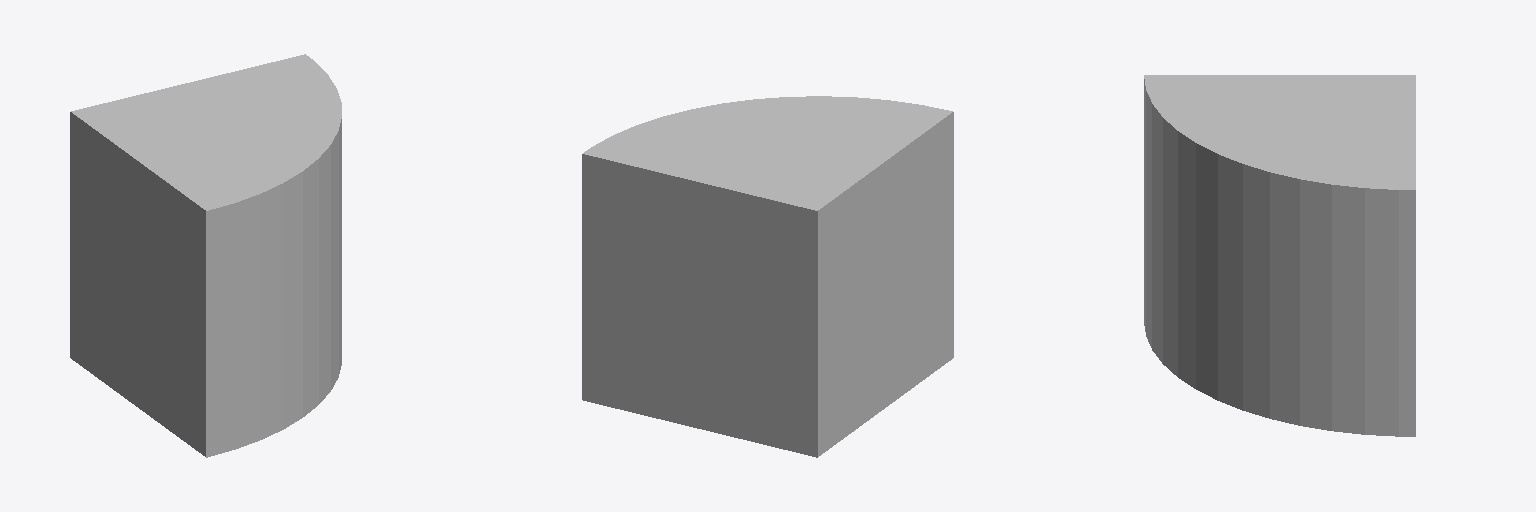
The model's file is ConvexCurve.obj.
3 views of the same model, side by side, from view 1: azimuth 30°, elevation 25°; view 2: azimuth 150°, elevation 25°; view 3: azimuth 270°, elevation 25° (orthographic).
Parts seen in each view (by area): view 1: ConvexCurve; view 2: ConvexCurve; view 3: ConvexCurve.
Part boxes in pixels (bbox=[...]): ConvexCurve: bbox=[70, 54, 341, 457]; ConvexCurve: bbox=[582, 96, 953, 457]; ConvexCurve: bbox=[1144, 75, 1415, 436].
Size of the model in its own units: 0.998 by 1 by 1.